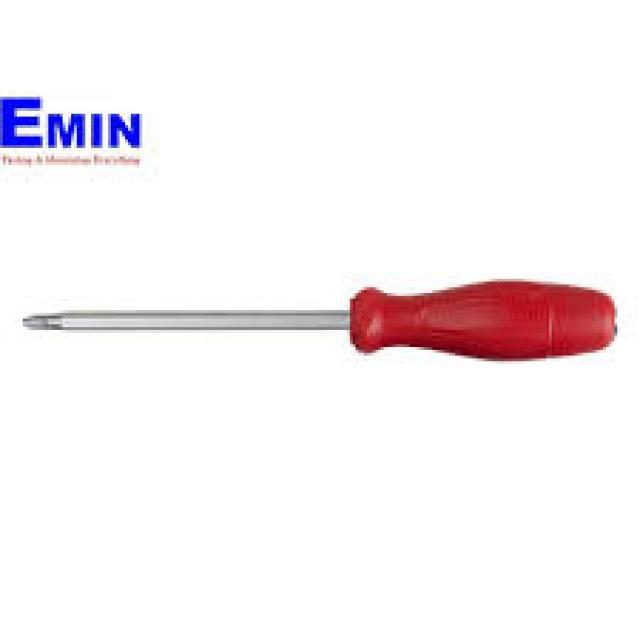screwdriver: (6, 276, 620, 367)
